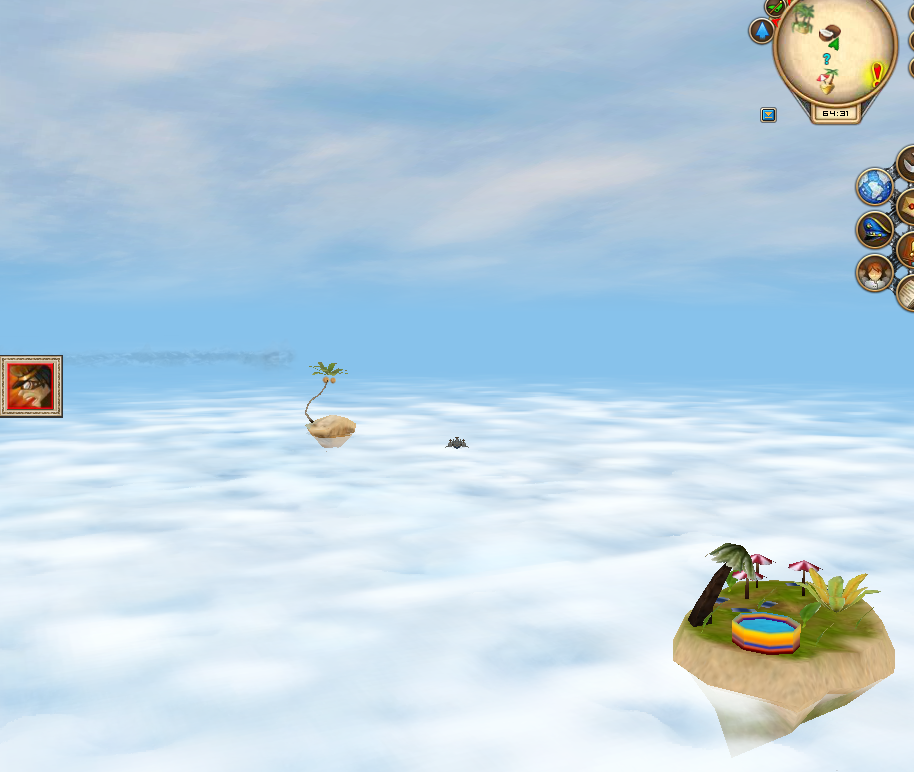palm: (295, 358, 364, 452)
